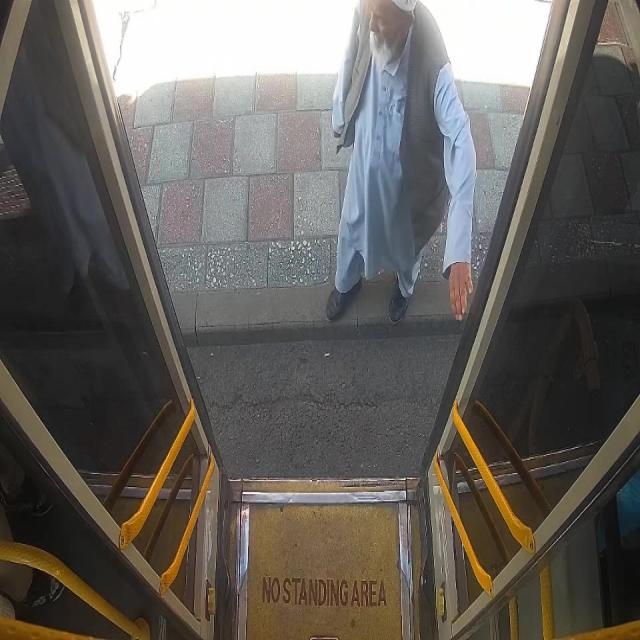open: (74, 3, 576, 490)
